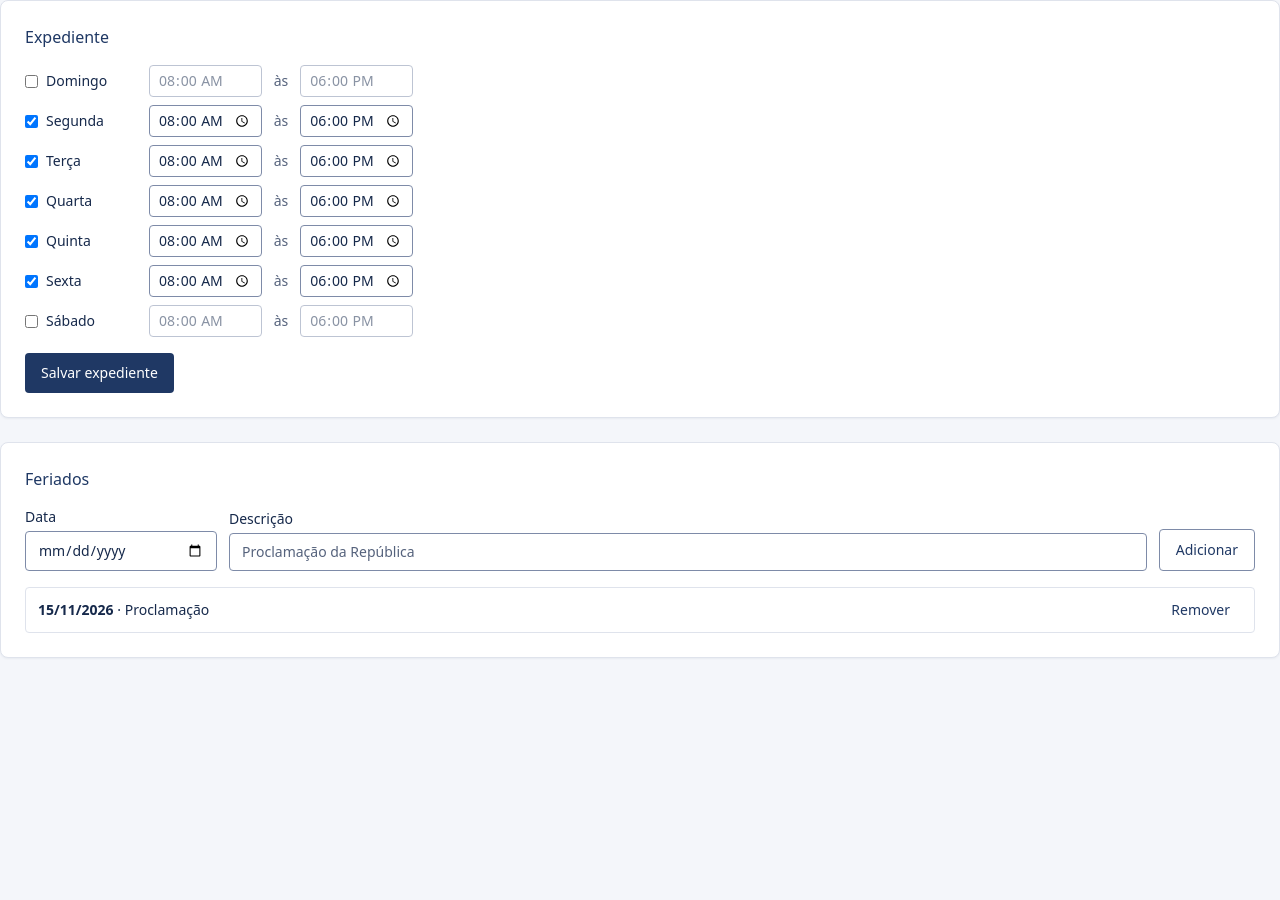
Test: Expediente e feriados › sem nenhum dia, avisa que a régua volta a ser a corrida
The image size is (1280, 900).
Click the checkbox labelled "Segunda": [32, 121] box [25,114,38,128]
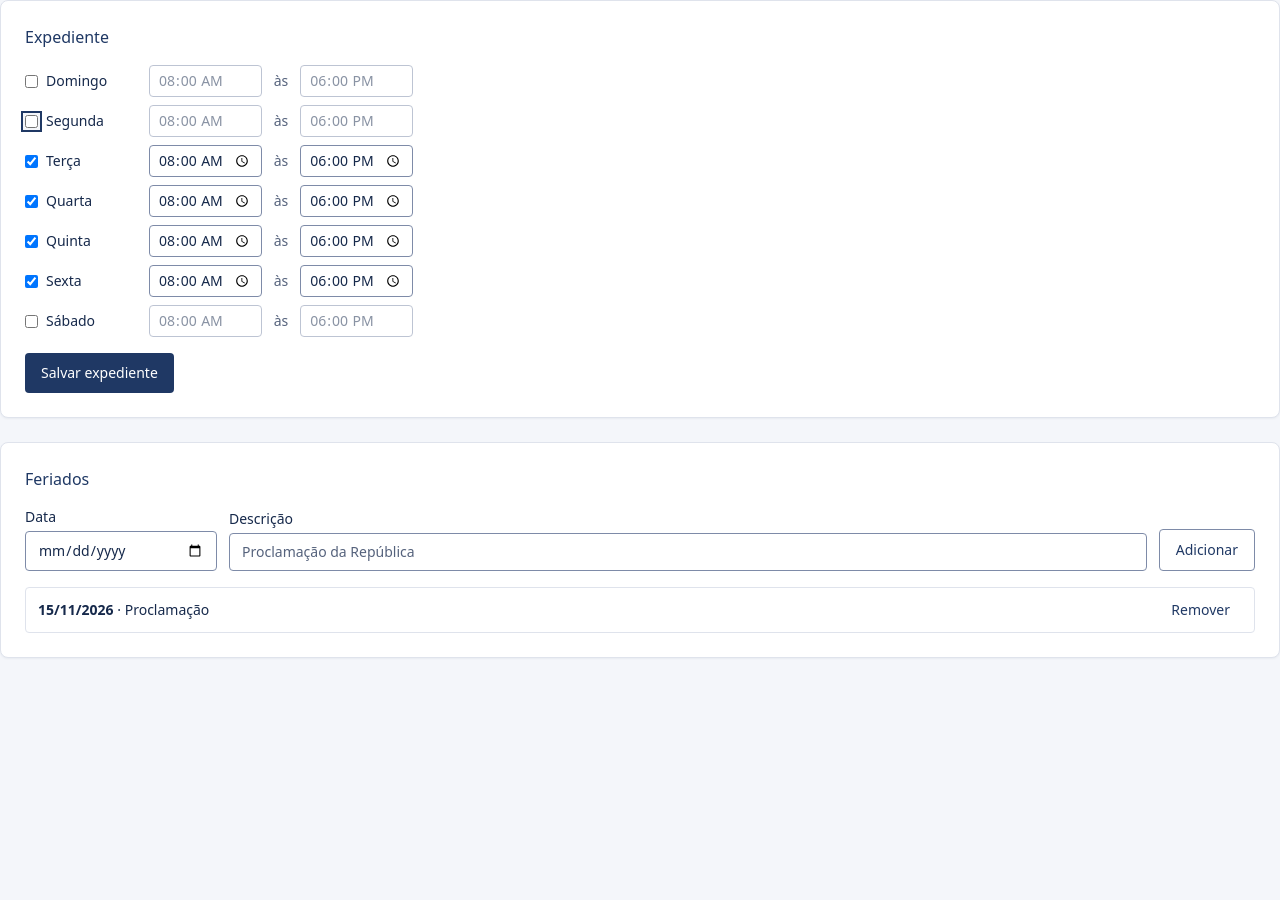
Click the checkbox labelled "Terça": [32, 161] box [25,154,38,168]
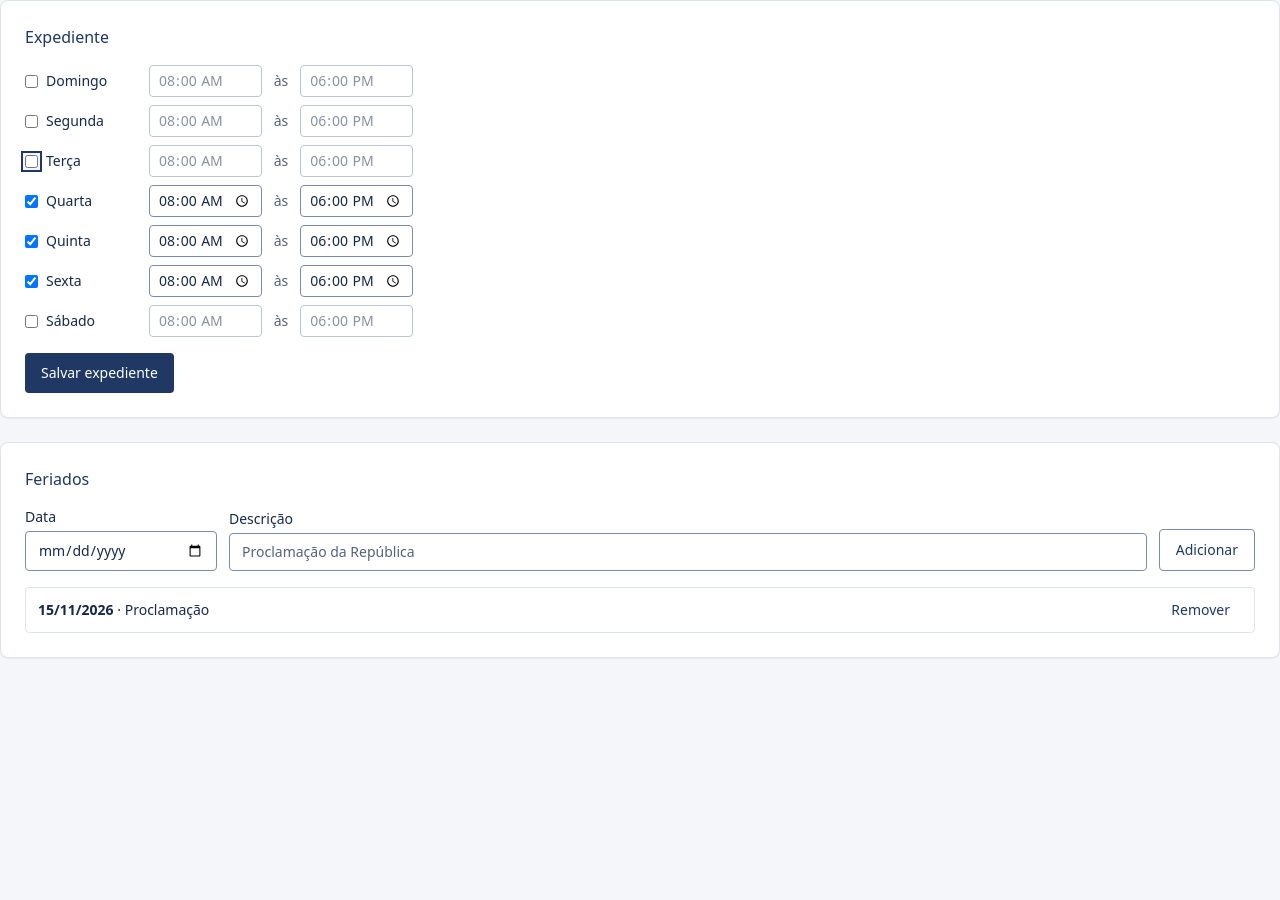
Click the checkbox labelled "Quarta": [32, 201] box [25,194,38,208]
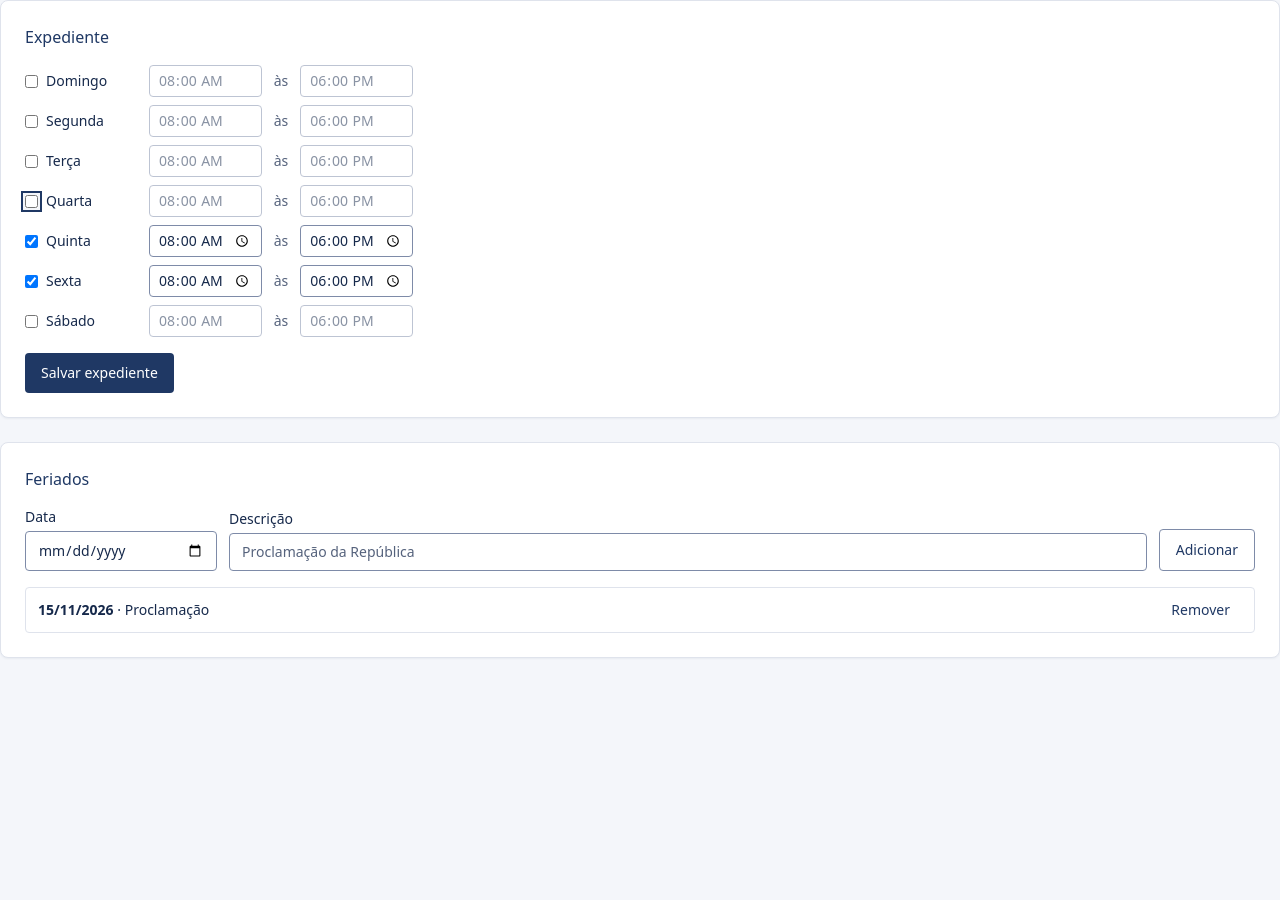
Click the checkbox labelled "Quinta": [32, 241] box [25,234,38,248]
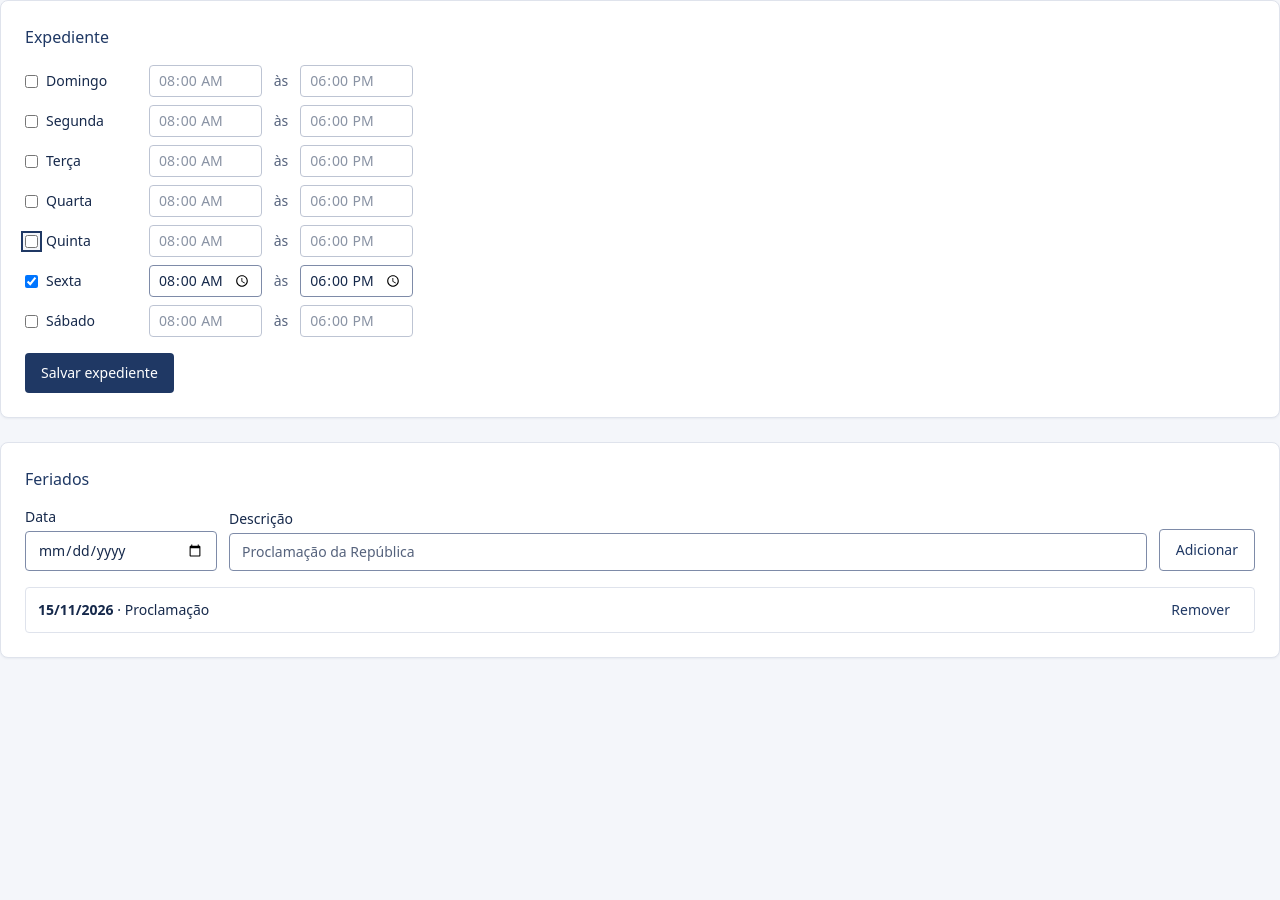
Click the checkbox labelled "Sexta": [32, 281] box [25,274,38,288]
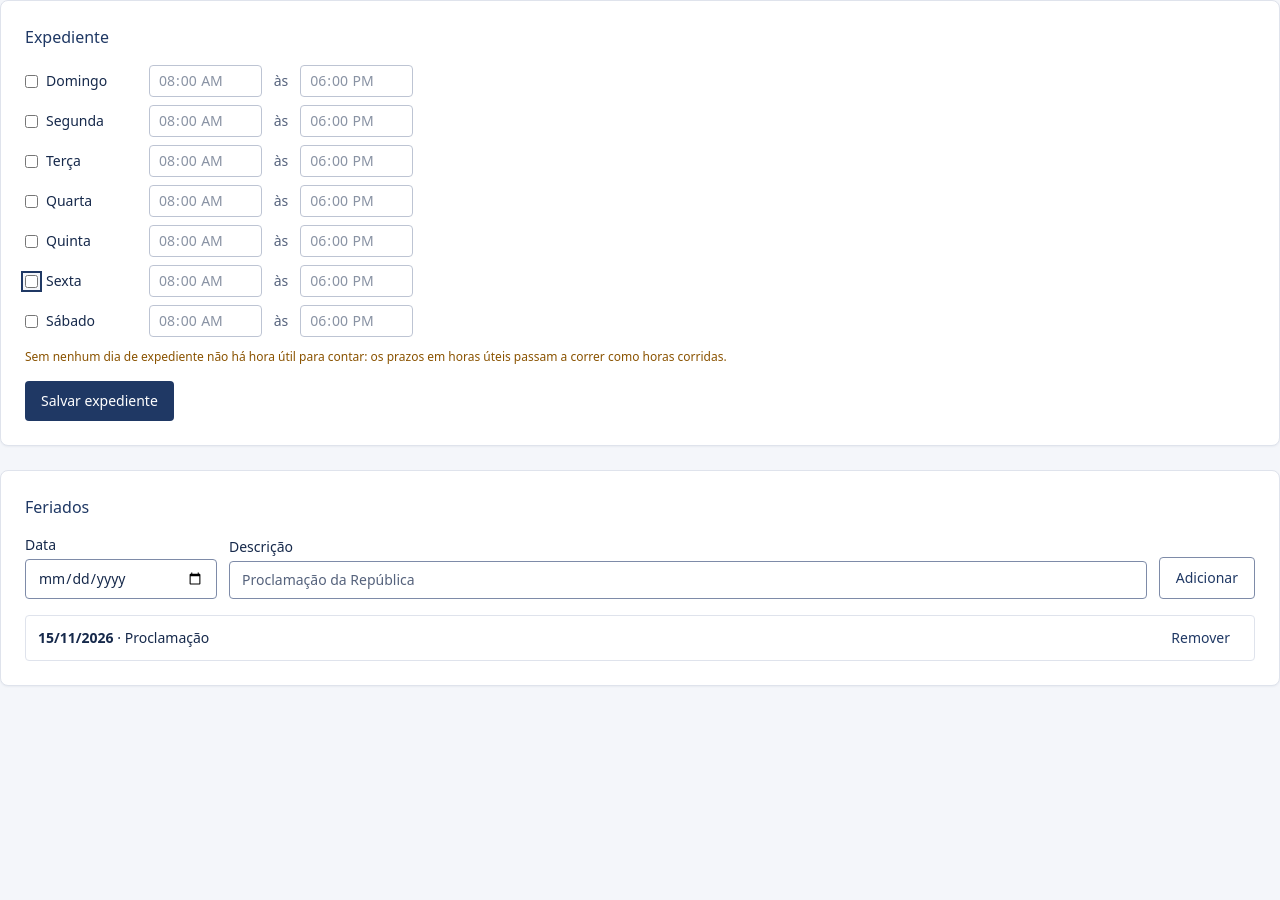
expect the text "passam a correr como horas corridas" is shown: met, box [25,348,727,365]
